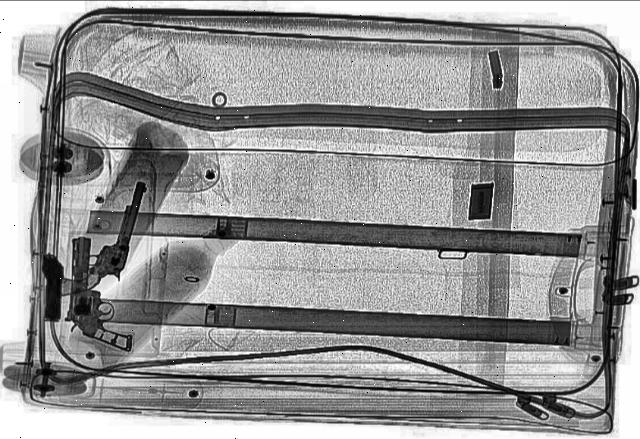Gun: (26, 232, 148, 364), (71, 177, 163, 289), (33, 255, 69, 321)
